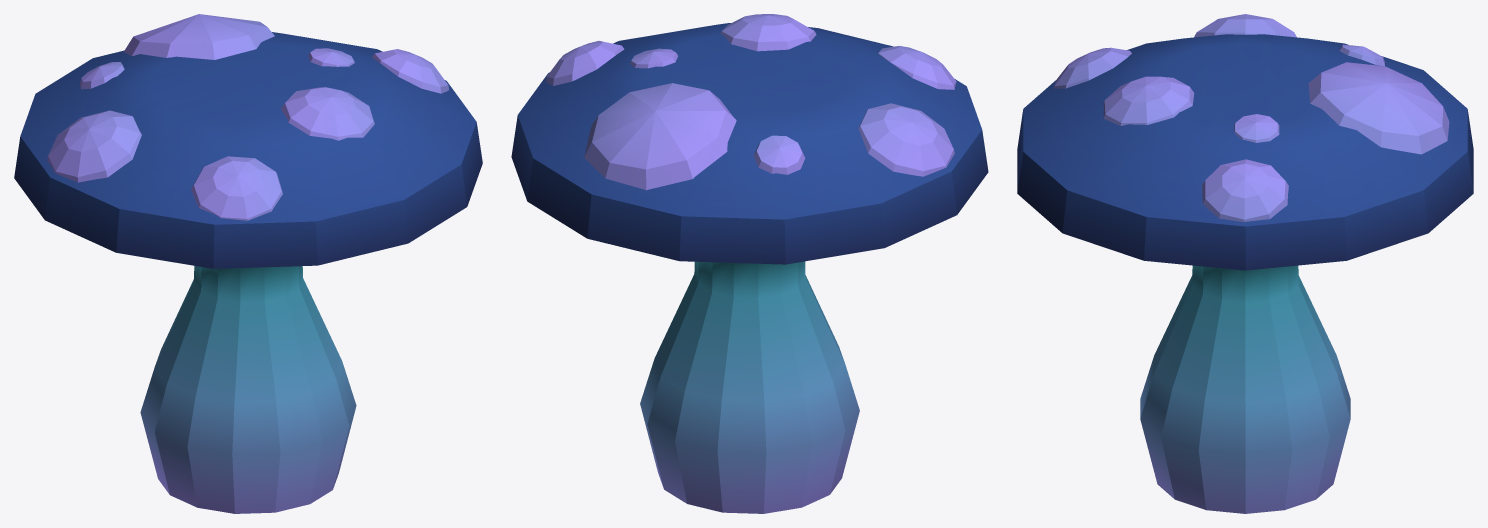
Rendered from SM_Mushroom_02.fbx.
3 views of the same model, side by side, from view 1: azimuth 30°, elevation 25°; view 2: azimuth 150°, elevation 25°; view 3: azimuth 270°, elevation 25° (orthographic). The views are drawn at different scales.
Visible parts, largest first — view 1: SM_Mushroom_02; view 2: SM_Mushroom_02; view 3: SM_Mushroom_02.
Boxes of the visible parts, left/top/right/bottom form: SM_Mushroom_02: left=14, top=14, right=482, bottom=513; SM_Mushroom_02: left=511, top=14, right=988, bottom=513; SM_Mushroom_02: left=1017, top=14, right=1473, bottom=513.
Bounding box in the file's own units: 189 × 181 × 184.
Materials: 1 (1 with a texture image).
